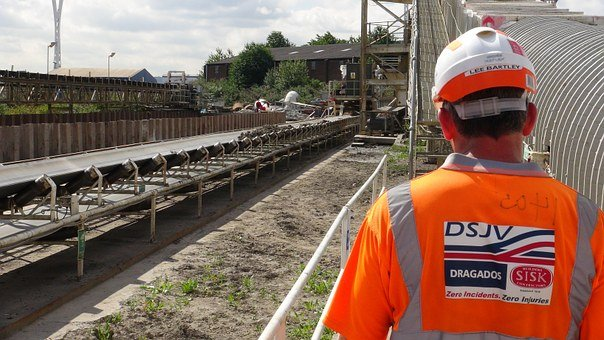Hard Hat: (430, 28, 539, 173)
Person: (347, 33, 601, 337)
